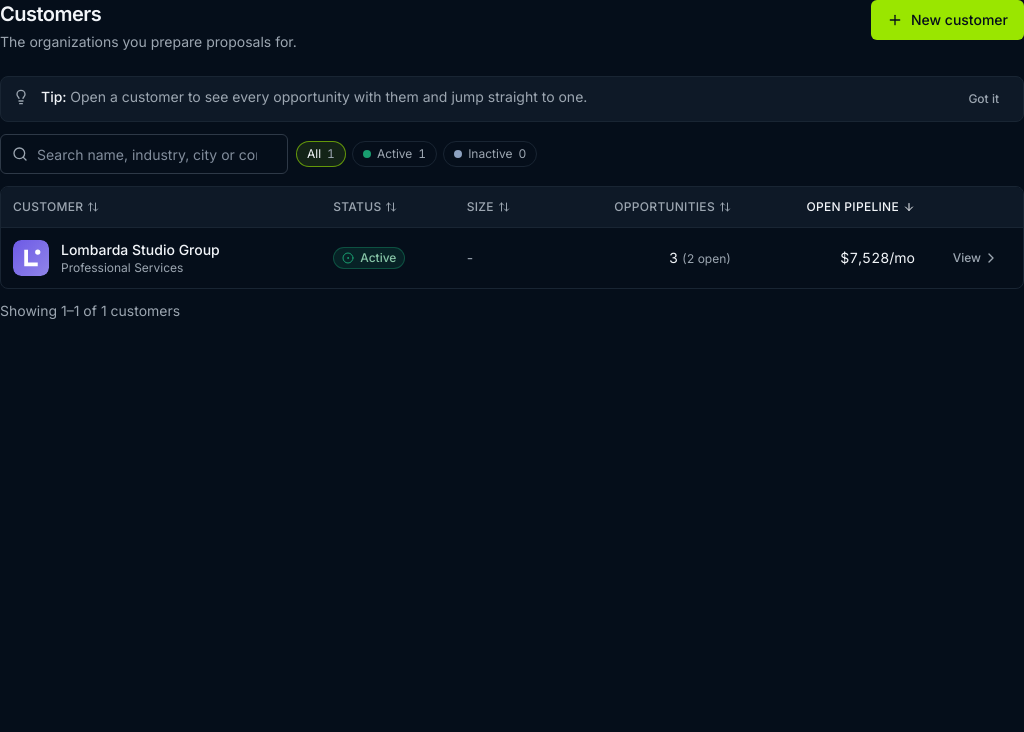
Test: CustomersPage › keeps the form open with the error when saving fails
Click the button "View" at (976, 258), box [941,242,1011,274]
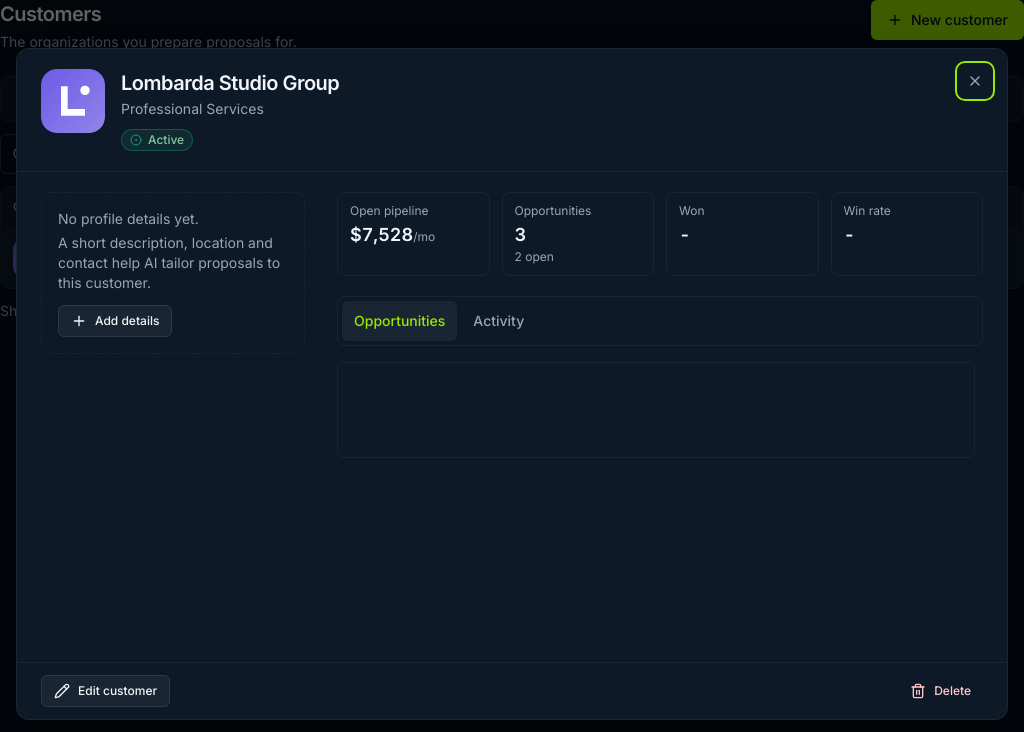
Click the button "Edit customer" at (106, 691), box [41,675,170,707]
(page scrolled)
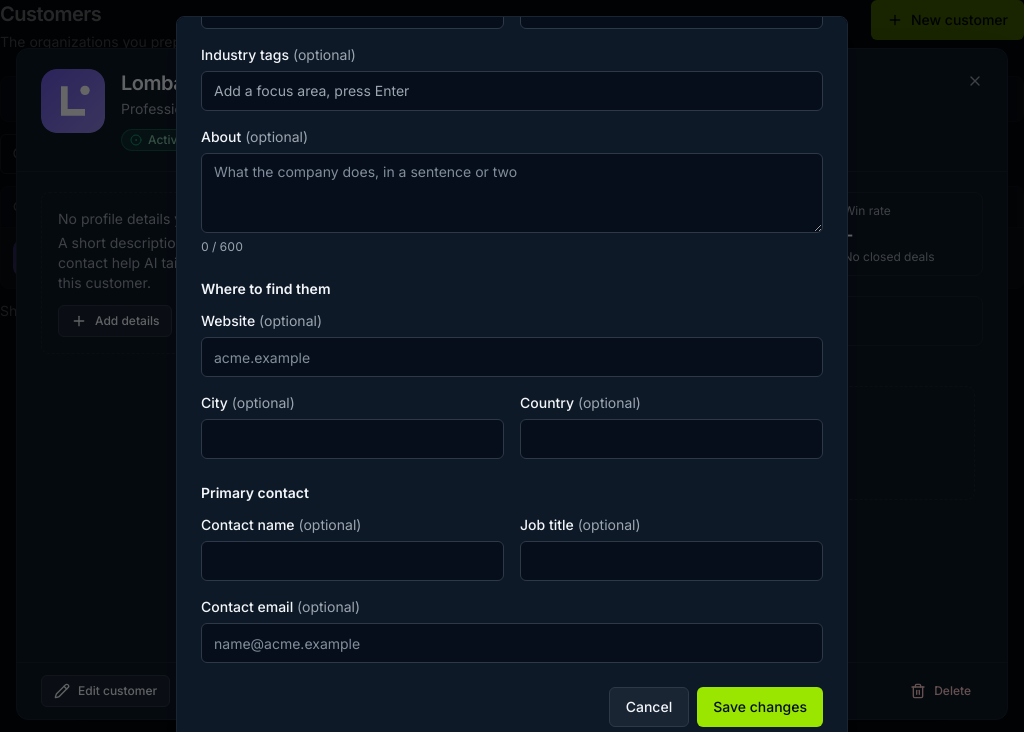
Click the button "Save changes" at (760, 707), box [697,687,823,727]
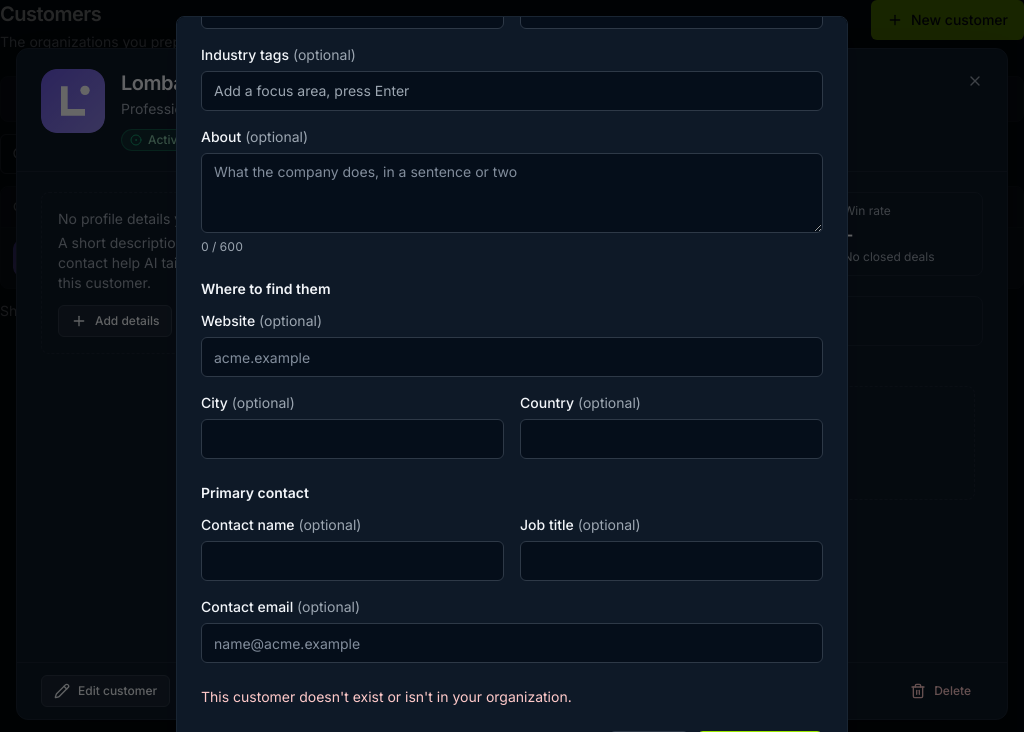
Check: the text "This customer doesn't exist or isn't in your organization." is shown, box [201,688,572,705]
